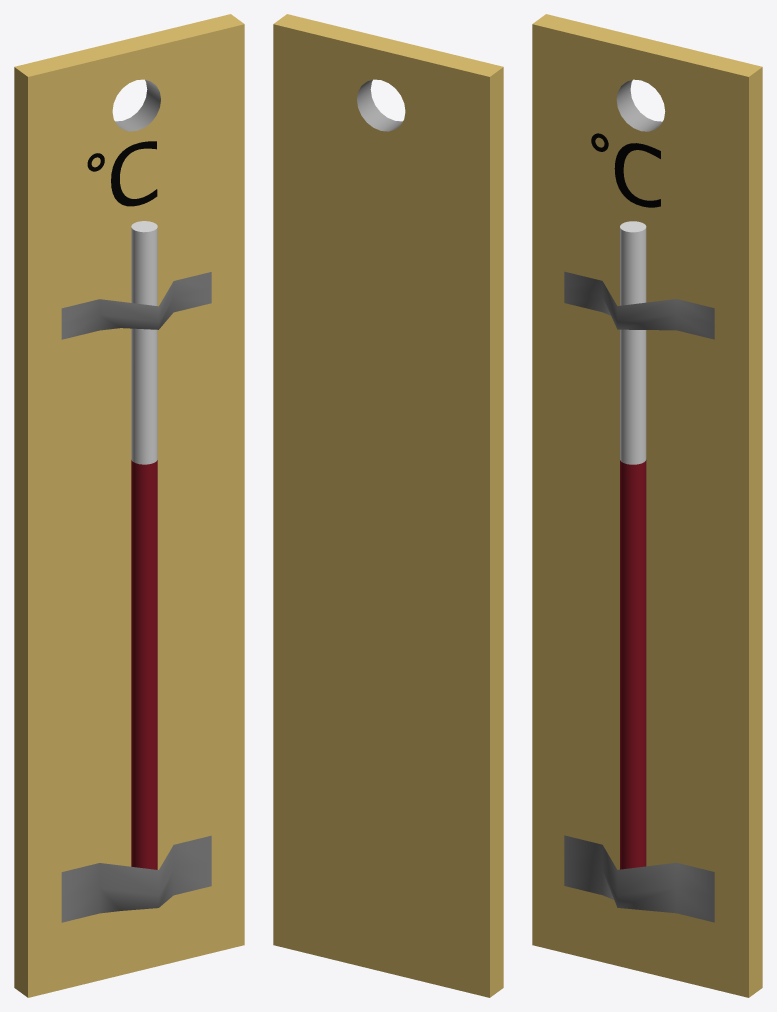
File: ondokei.fbx
3 views of the same model, side by side, from view 1: azimuth 30°, elevation 25°; view 2: azimuth 150°, elevation 25°; view 3: azimuth 330°, elevation 25° (orthographic).
Parts seen in each view (by area): view 1: pCube2, pCylinder1, pPlane1, pPlane2, typeMesh1; view 2: pCube2; view 3: pCube2, pCylinder1, pPlane1, pPlane2, typeMesh1.
Part boxes in pixels (x1=…): pCube2: x1=14, y1=14, x2=244, y2=997; pCylinder1: x1=131, y1=221, x2=157, y2=869; pPlane1: x1=61, y1=835, x2=211, y2=922; pPlane2: x1=61, y1=272, x2=211, y2=339; typeMesh1: x1=87, y1=141, x2=157, y2=206; pCube2: x1=273, y1=14, x2=503, y2=997; pCube2: x1=532, y1=14, x2=762, y2=997; pCylinder1: x1=620, y1=221, x2=646, y2=869; pPlane1: x1=564, y1=835, x2=714, y2=922; pPlane2: x1=564, y1=271, x2=714, y2=339; typeMesh1: x1=591, y1=133, x2=660, y2=207.
Size of the model in its own units: 1.87 by 7.58 by 0.5465.
